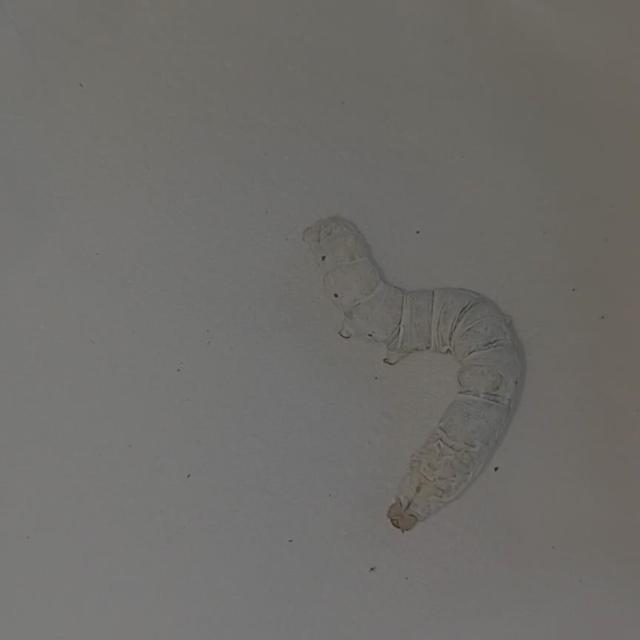Healthy: (276, 179, 542, 556)
